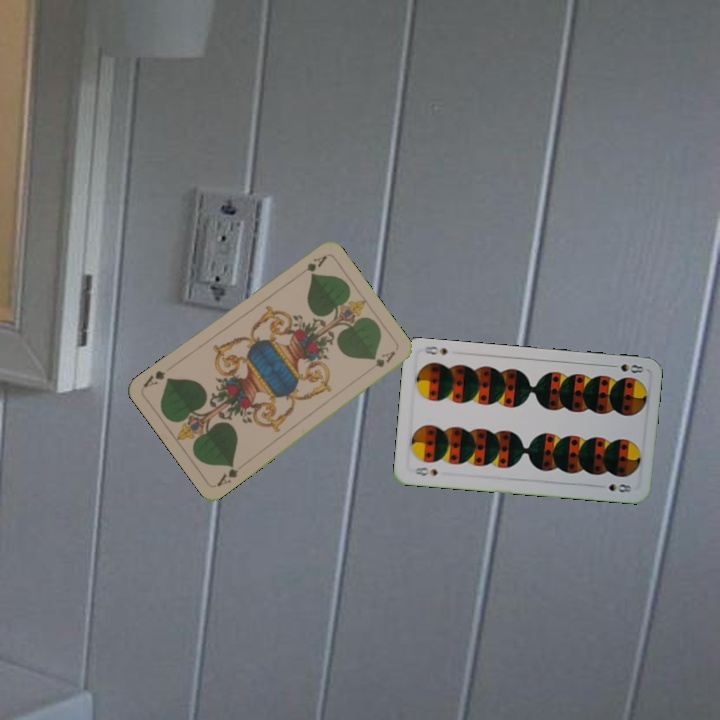GA: (213, 460, 241, 489), (302, 251, 329, 275)
S8: (606, 360, 646, 376), (410, 463, 441, 479)
